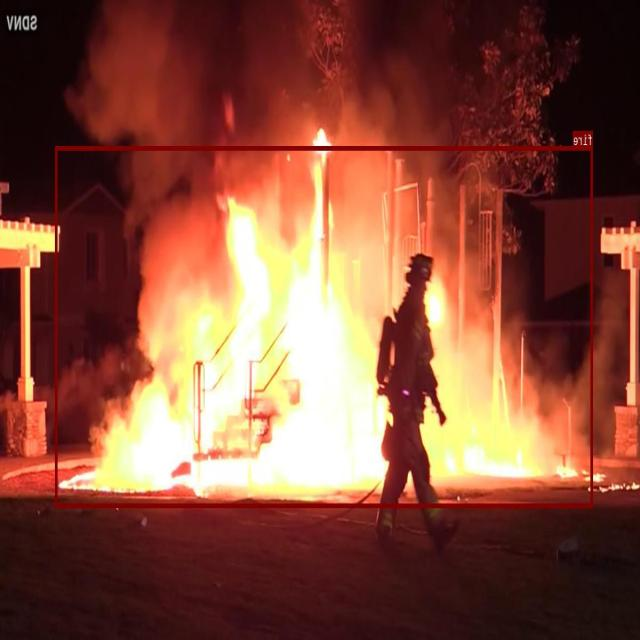fire: (56, 146, 593, 507)
